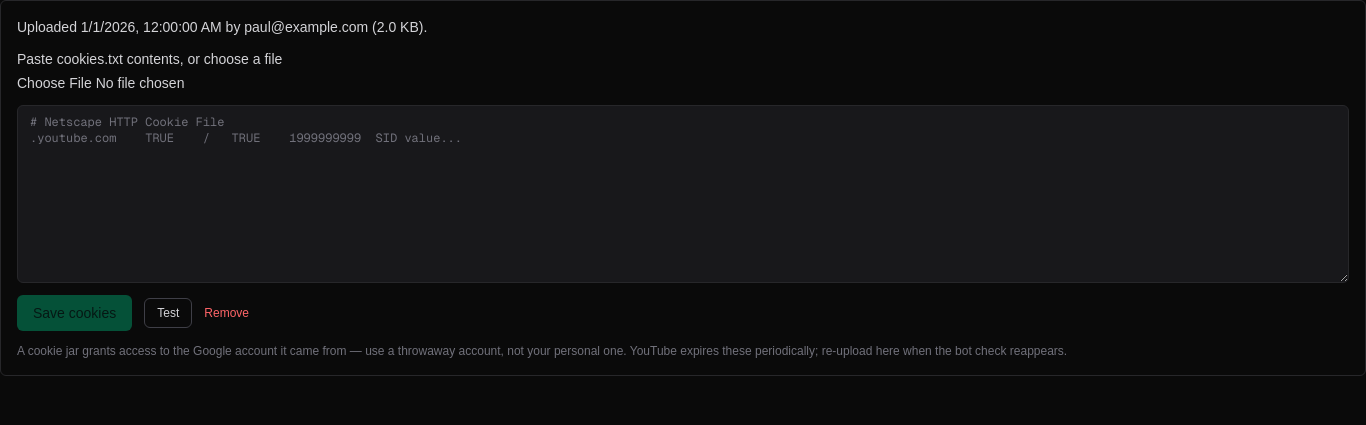
Test: AdminCookiesPanel › disables Test until cookies are present, then shows the resolved title
expect the text "Uploaded 1/1/2026, 12:00:00 AM by paul@example.com (2.0 KB)." is shown: met, box top-left (17, 19), bottom-right (427, 35)
Step 1. Click the button "Test" → (168, 313), box top-left (144, 298), bottom-right (192, 328)
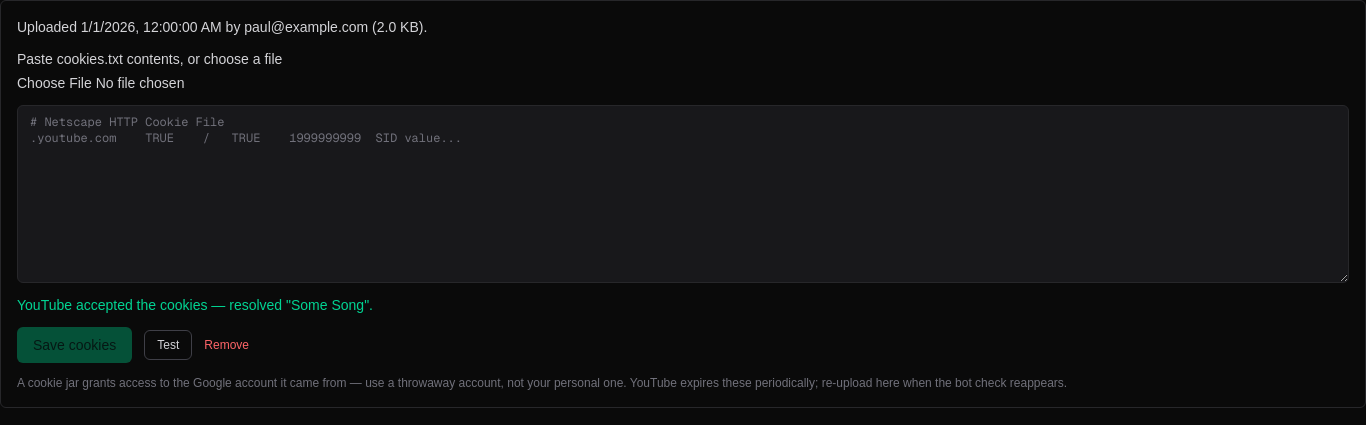
expect the text "YouTube accepted the cookies — resolved \"Some Song\"." is shown: met, box top-left (17, 297), bottom-right (373, 313)
